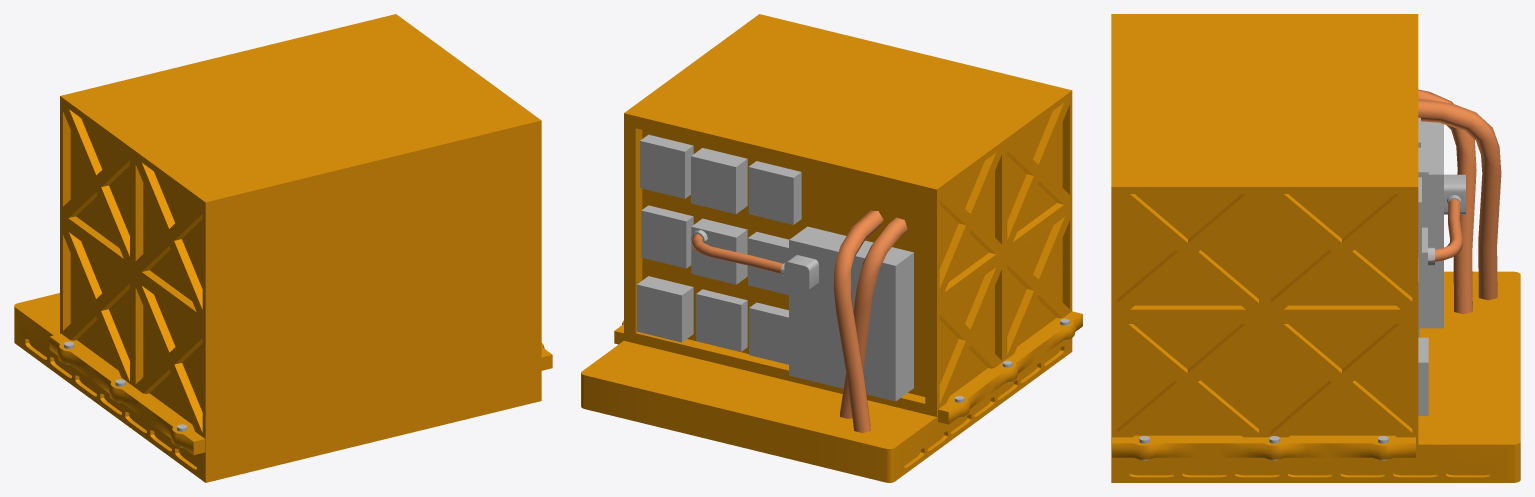
The model's file is moxie.fbx.
The picture shows the model from 3 angles, left to right: view 1: azimuth 30°, elevation 25°; view 2: azimuth 150°, elevation 25°; view 3: azimuth 270°, elevation 25°; orthographic projection. The views are drawn at different scales.
Visible parts, largest first — view 1: Moxie; view 2: Moxie, Mo.001; view 3: Moxie, Mo.001.
Part boxes in pixels (x1,y1,x2,y2): Moxie: (14,14,552,482); Moxie: (581,14,1082,482); Mo.001: (692,210,907,432); Moxie: (1111,14,1520,482); Mo.001: (1418,89,1501,314).
Bounding box in the file's own units: 220 × 160 × 200.
